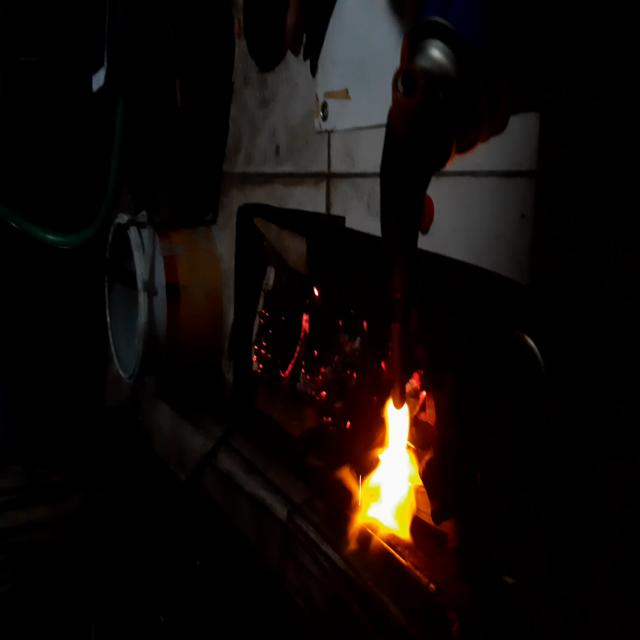Fire: (246, 268, 371, 423), (351, 387, 425, 547), (410, 368, 450, 449)
